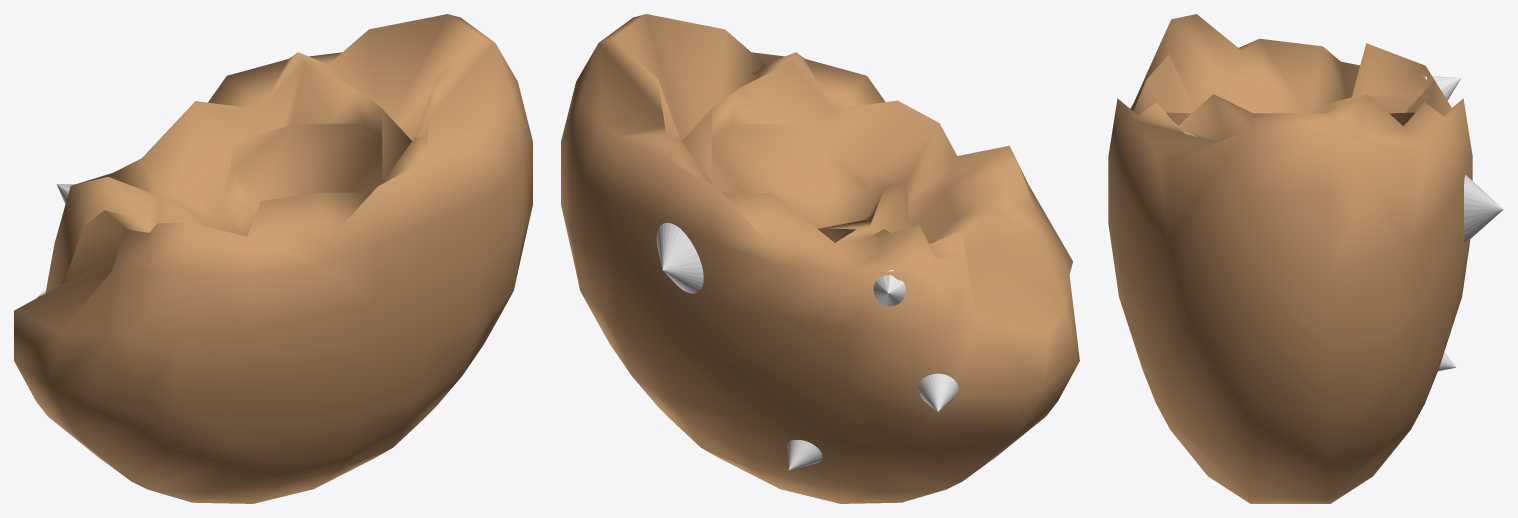
File: cookie5.glb
3 renders of one model, left to right at view 1: azimuth 30°, elevation 25°; view 2: azimuth 150°, elevation 25°; view 3: azimuth 270°, elevation 25°, orthographic. The views are drawn at different scales.
Visible parts, largest first — view 1: Mball.001; view 2: Mball.001, Cone.003, Cone.008, Cone.006, Cone.009; view 3: Mball.001, Cone.003.
Boxes of the visible parts, x1,y1,x2,y2 form: Mball.001: (14,14,532,503); Mball.001: (561,14,1079,503); Cone.003: (656,222,703,293); Cone.008: (918,373,958,411); Cone.006: (873,270,905,306); Cone.009: (787,440,822,470); Mball.001: (1108,14,1472,503); Cone.003: (1463,175,1503,243).
Size of the model in its own units: 3.2 by 2.58 by 1.97.
